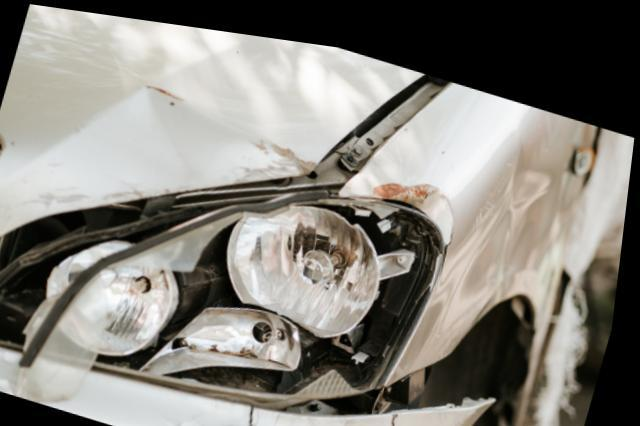crack: (257, 397, 264, 426)
dent: (392, 176, 458, 234)
dislocated part: (0, 338, 502, 426)
lamp broken: (0, 179, 446, 387)
